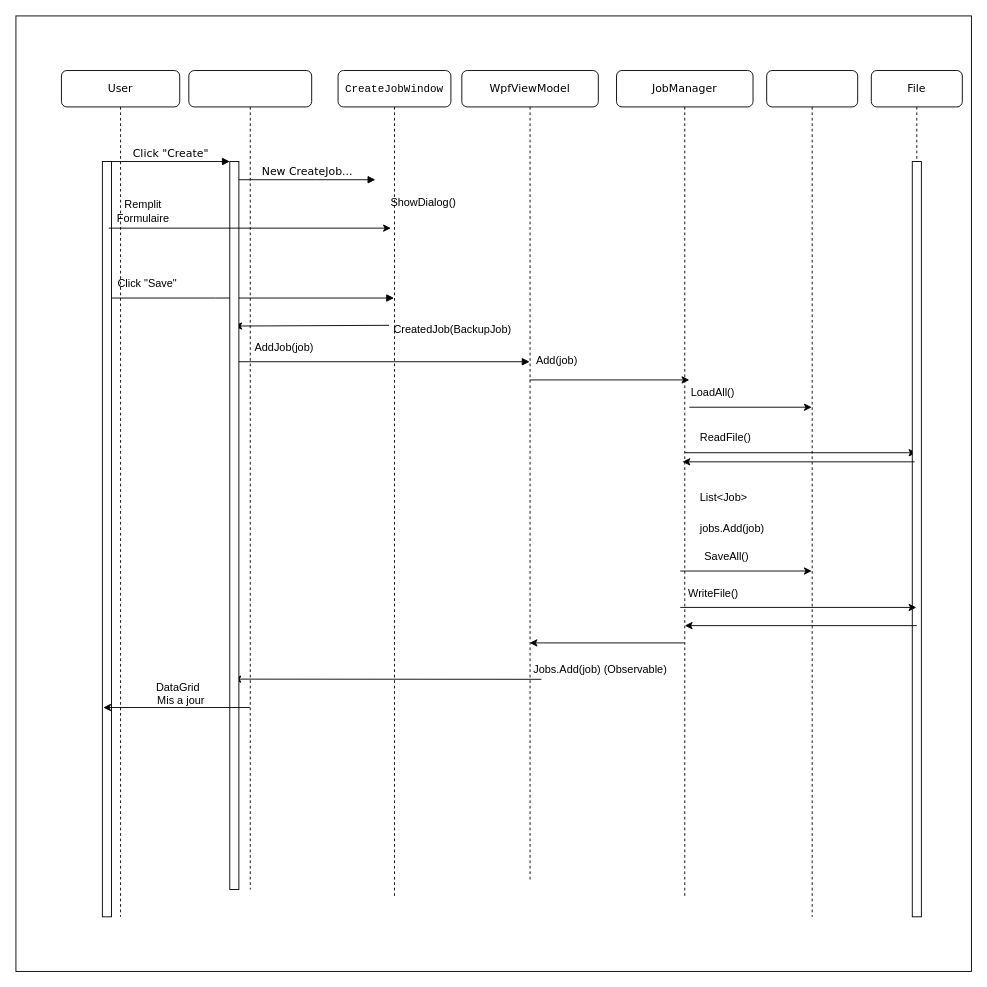
This 987x987 diagram has some shape labels left out. Here are the shapes that lost their labels. From the top down, the box of each, then its label:
(188, 70, 312, 890): MainWindow
(766, 70, 858, 917): JsonJobRepo
